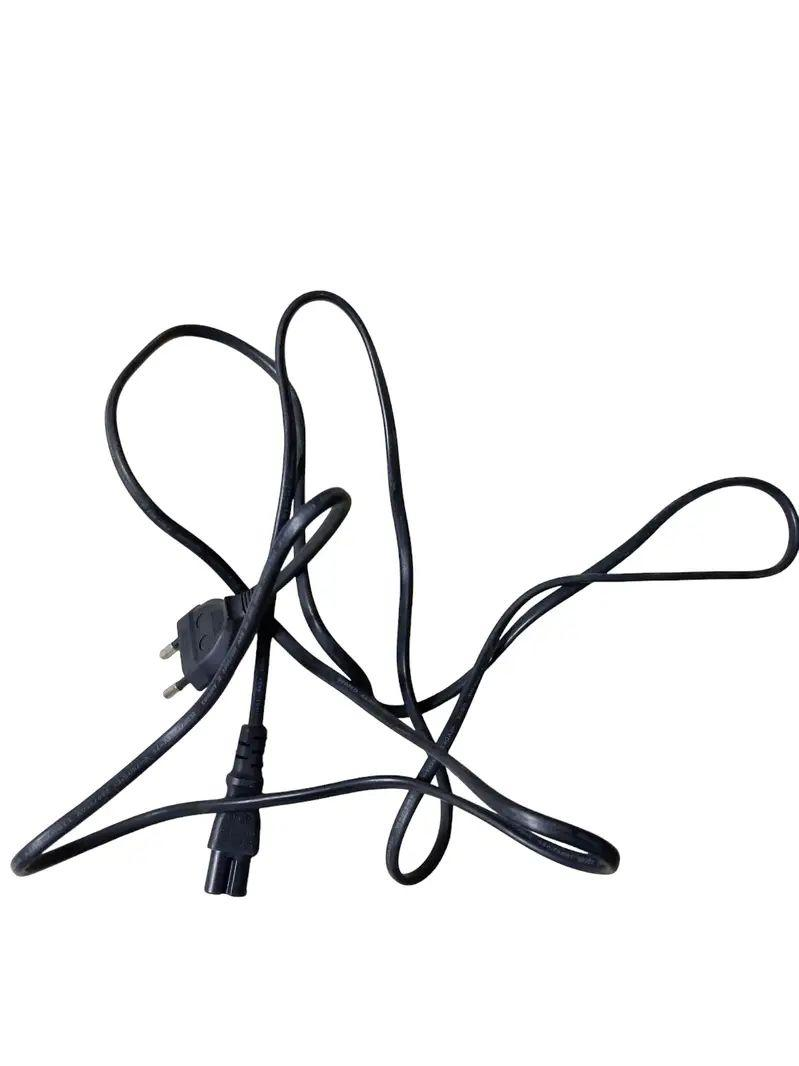electronic: (0, 294, 798, 913)
